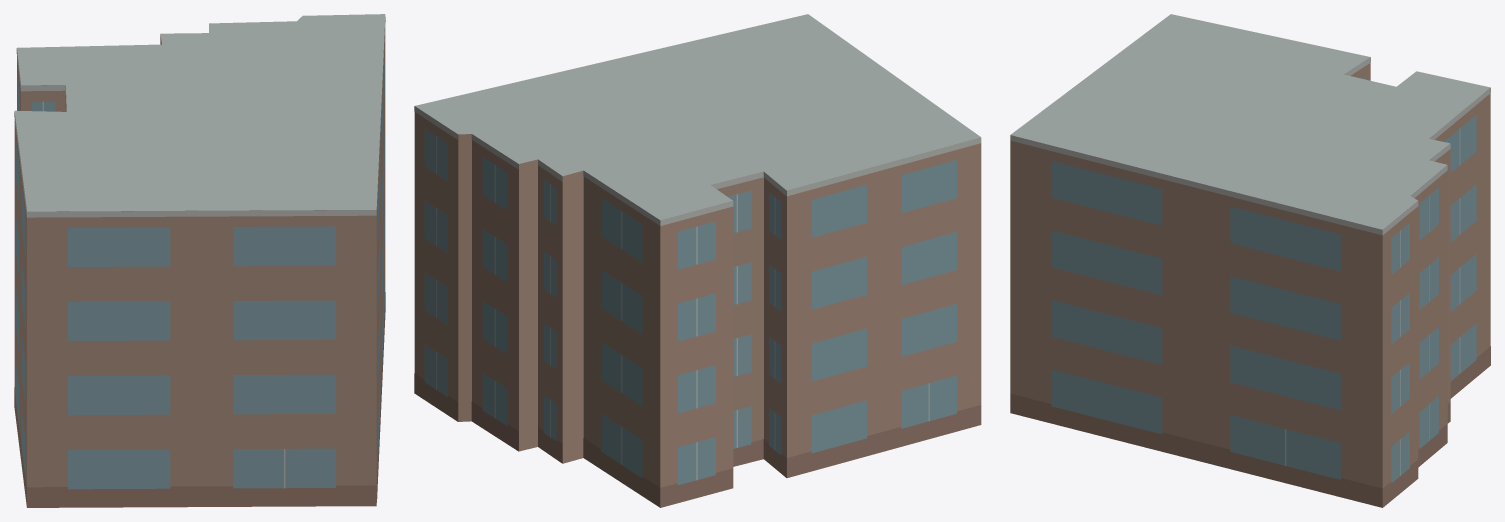
The model's file is survey-upis-32773219.glb.
3 renders of one model, left to right at view 1: azimuth 30°, elevation 25°; view 2: azimuth 150°, elevation 25°; view 3: azimuth 270°, elevation 25°, orthographic. The views are drawn at different scales.
Visible parts, largest first — view 1: survey-upis-32773219.tmp; view 2: survey-upis-32773219.tmp; view 3: survey-upis-32773219.tmp.
Part boxes in pixels (bbox=[...]): survey-upis-32773219.tmp: bbox=[14, 14, 385, 507]; survey-upis-32773219.tmp: bbox=[414, 14, 981, 507]; survey-upis-32773219.tmp: bbox=[1010, 14, 1490, 507].
Size of the model in its own units: 20.32 by 12.2 by 19.11.
